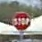stop: (12, 12, 31, 30)
